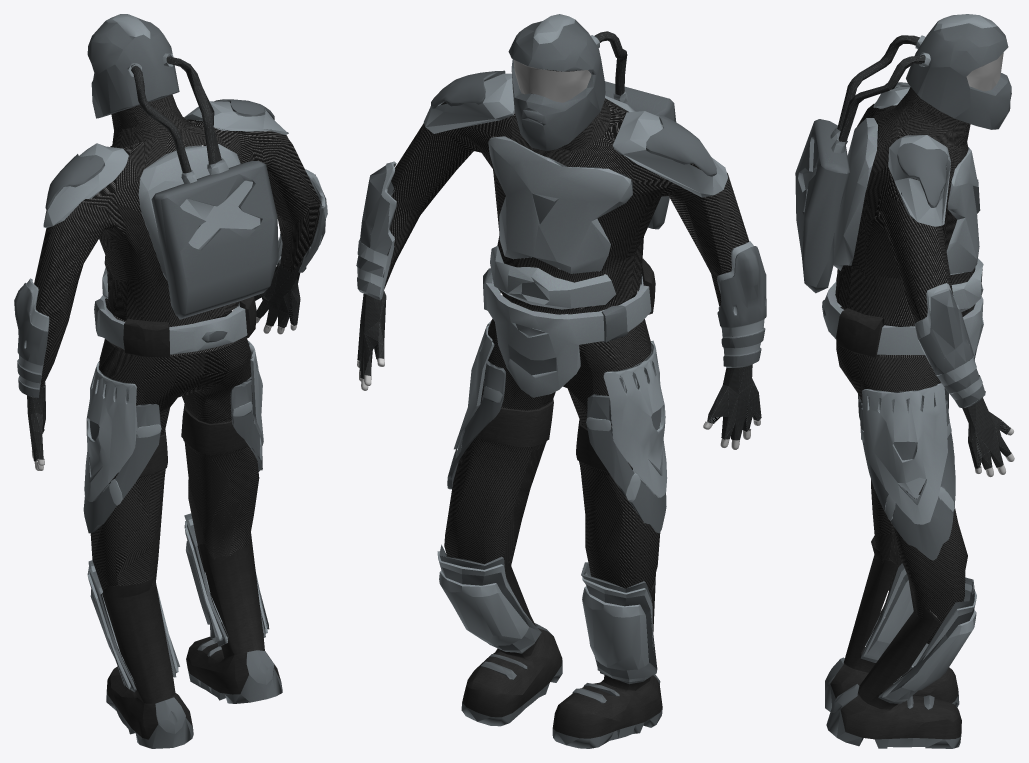
The model's file is andar.0003.obj.
3 renders of one model, left to right at view 1: azimuth 30°, elevation 25°; view 2: azimuth 150°, elevation 25°; view 3: azimuth 270°, elevation 25°, orthographic. The views are drawn at different scales.
Parts seen in each view (by area): view 1: personaje:CAMISETABUENA polySurface1, personaje:extrudedSurface2 polySurface1, personaje:PANTALON polySurface1, personaje:bota1 polySurface1, personaje:pPipe4 polySurface1, personaje:pCube4 polySurface1, personaje:cosoarmdaurapierna1 polySurface1, personaje:cinturon polySurface1, personaje:polySurface6 polySurface1, personaje:armadbota1 polySurface1, personaje:polySurface2 polySurface1, personaje:HOMBRO2 polySurface1 (+5 smaller); view 2: personaje:pPipe4 polySurface1, personaje:CAMISETABUENA polySurface1, personaje:PANTALON polySurface1, personaje:bota1 polySurface1, personaje:extrudedSurface2 polySurface1, personaje:cinturon polySurface1, personaje:armadbota1 polySurface1, personaje:pCube4 polySurface1, personaje:cosoarmdaurapierna1 polySurface1, personaje:polySurface2 polySurface1, personaje:polySurface6 polySurface1, personaje:HOMBRO2 polySurface1 (+6 smaller); view 3: personaje:pPipe4 polySurface1, personaje:CAMISETABUENA polySurface1, personaje:extrudedSurface2 polySurface1, personaje:bota1 polySurface1, personaje:pCube4 polySurface1, personaje:PANTALON polySurface1, personaje:cinturon polySurface1, personaje:armadbota1 polySurface1, personaje:cosoarmadurapierna2 polySurface1, personaje:hombro1 polySurface1, personaje:partearmdBRAZO2 polySurface1, personaje:polySurface11 polySurface1 (+1 smaller).
Boxes of the visible parts, x1,y1,x2,y2 form: personaje:CAMISETABUENA polySurface1: (34,94,320,387); personaje:extrudedSurface2 polySurface1: (87,14,278,319); personaje:PANTALON polySurface1: (90,310,259,591); personaje:bota1 polySurface1: (102,532,282,748); personaje:pPipe4 polySurface1: (27,101,326,461); personaje:pCube4 polySurface1: (83,340,269,692); personaje:cosoarmdaurapierna1 polySurface1: (84,361,161,505); personaje:cinturon polySurface1: (94,273,256,357); personaje:polySurface6 polySurface1: (139,404,248,477); personaje:armadbota1 polySurface1: (87,519,267,689); personaje:polySurface2 polySurface1: (14,283,47,397); personaje:HOMBRO2 polySurface1: (45,154,104,210); personaje:pPipe4 polySurface1: (356,73,761,440); personaje:CAMISETABUENA polySurface1: (384,69,749,336); personaje:PANTALON polySurface1: (444,275,660,593); personaje:bota1 polySurface1: (461,562,662,748); personaje:extrudedSurface2 polySurface1: (508,14,676,229); personaje:cinturon polySurface1: (483,258,655,397); personaje:armadbota1 polySurface1: (437,551,653,682); personaje:pCube4 polySurface1: (438,320,666,684); personaje:cosoarmdaurapierna1 polySurface1: (586,340,667,502); personaje:polySurface2 polySurface1: (717,246,766,366); personaje:polySurface6 polySurface1: (476,399,608,472); personaje:HOMBRO2 polySurface1: (646,115,716,176); personaje:pPipe4 polySurface1: (833,86,1011,469); personaje:CAMISETABUENA polySurface1: (835,87,975,358); personaje:extrudedSurface2 polySurface1: (795,14,1011,293); personaje:bota1 polySurface1: (825,536,961,748); personaje:pCube4 polySurface1: (858,383,975,703); personaje:PANTALON polySurface1: (836,306,967,644); personaje:cinturon polySurface1: (822,277,983,360); personaje:armadbota1 polySurface1: (863,567,976,701); personaje:cosoarmadurapierna2 polySurface1: (860,397,955,560); personaje:hombro1 polySurface1: (897,143,948,207); personaje:partearmdBRAZO2 polySurface1: (914,283,985,407); personaje:polySurface11 polySurface1: (837,35,919,130).
Size of the model in its own units: 4.96 by 9.56 by 2.7.
